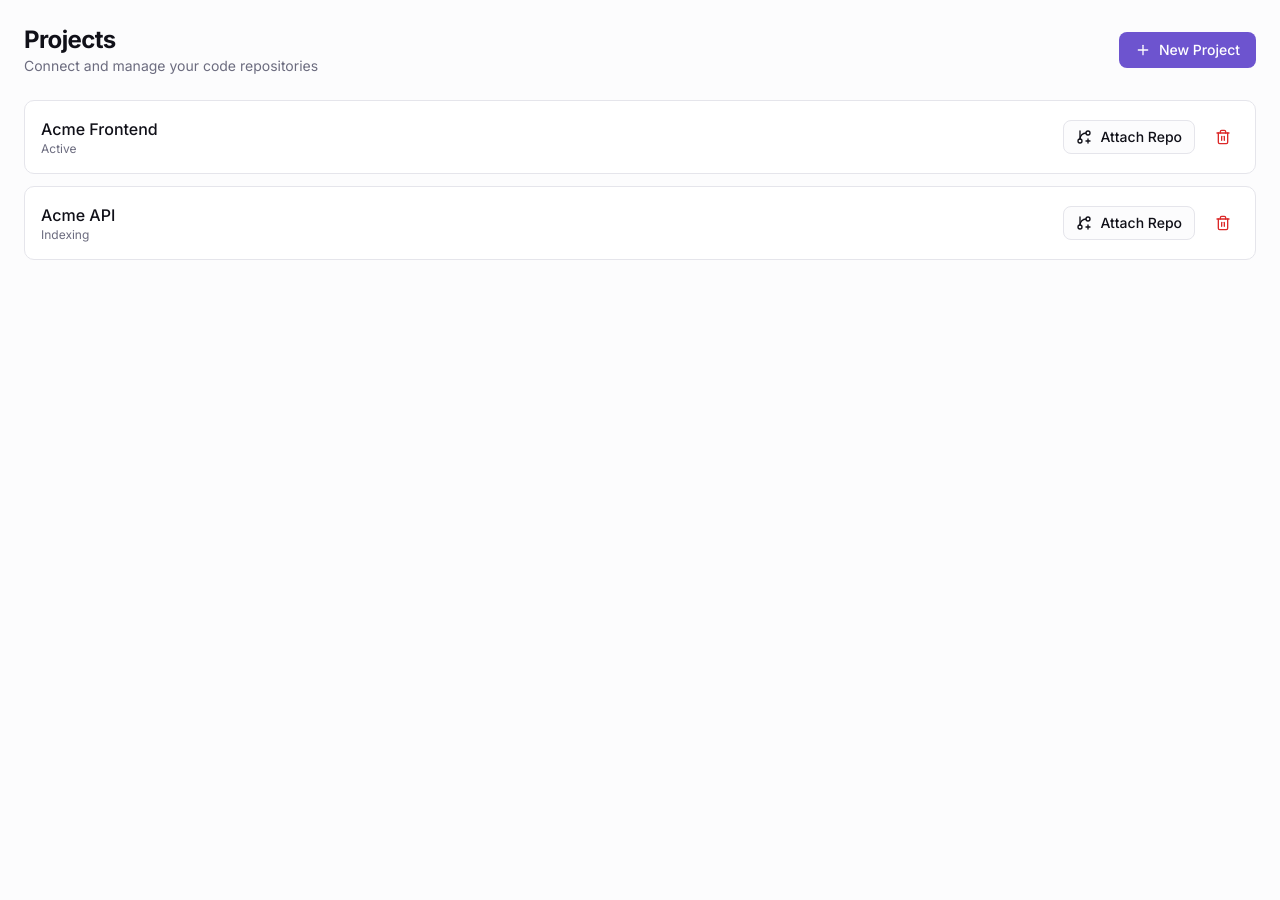
Test case: ProjectsPage › opens delete confirmation when delete project is clicked
Click the button named "delete project" in the row of "Acme Frontend": x=1223, y=137 [1207, 121, 1239, 153]
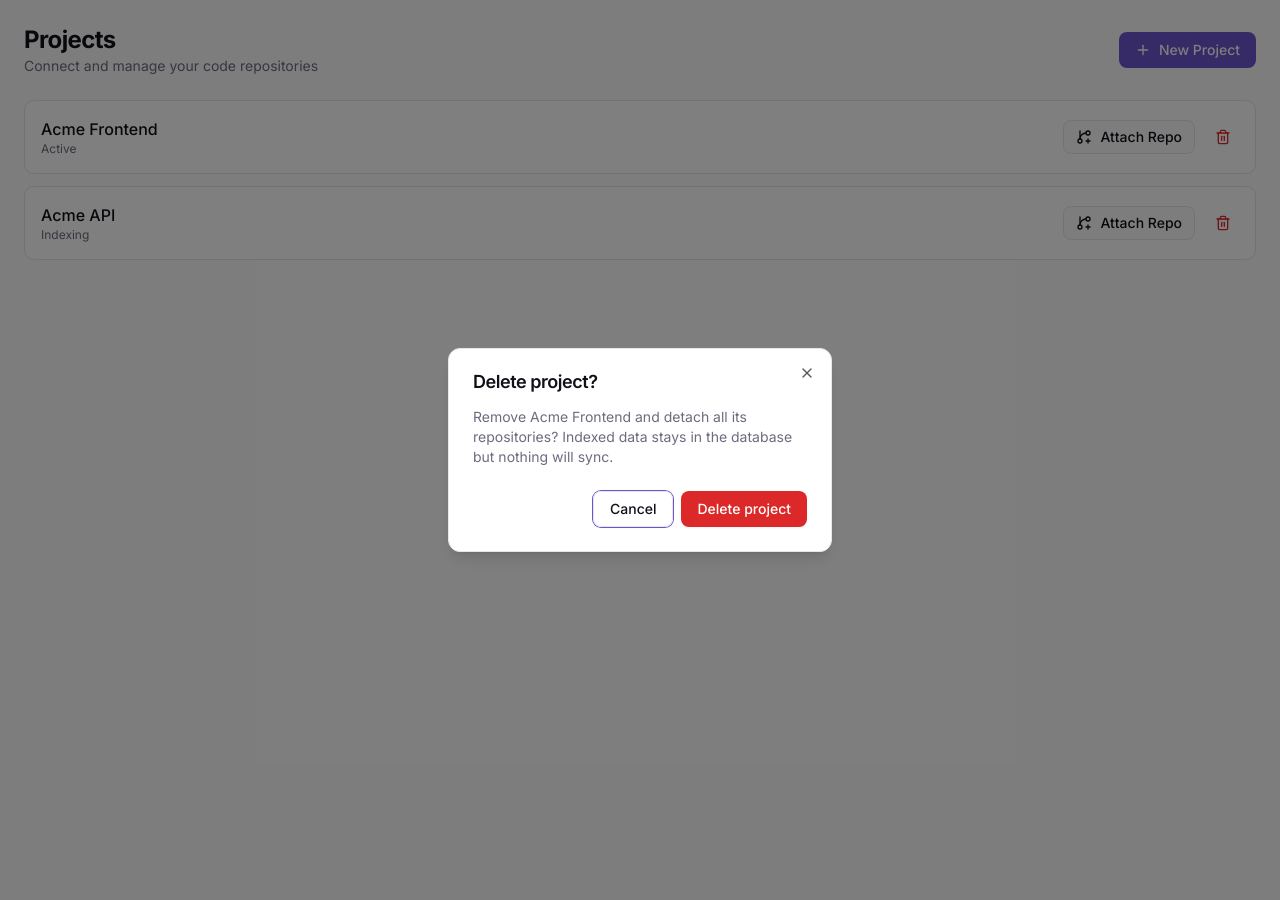
Now the text "Remove Acme Frontend and detach all its repositories" is shown, box [473, 408, 792, 465]
